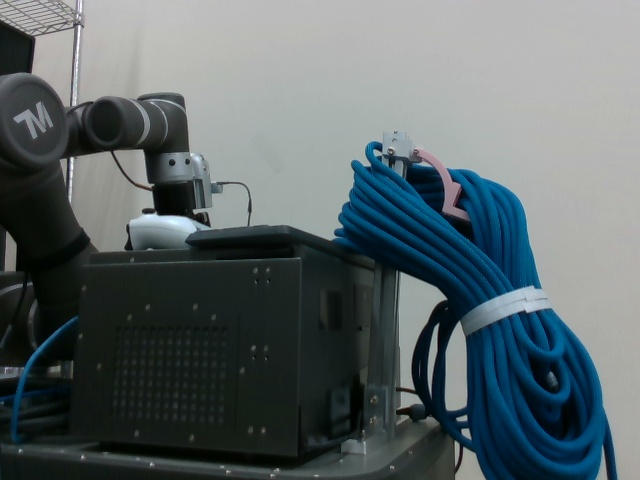rope: (330, 136, 622, 480)
